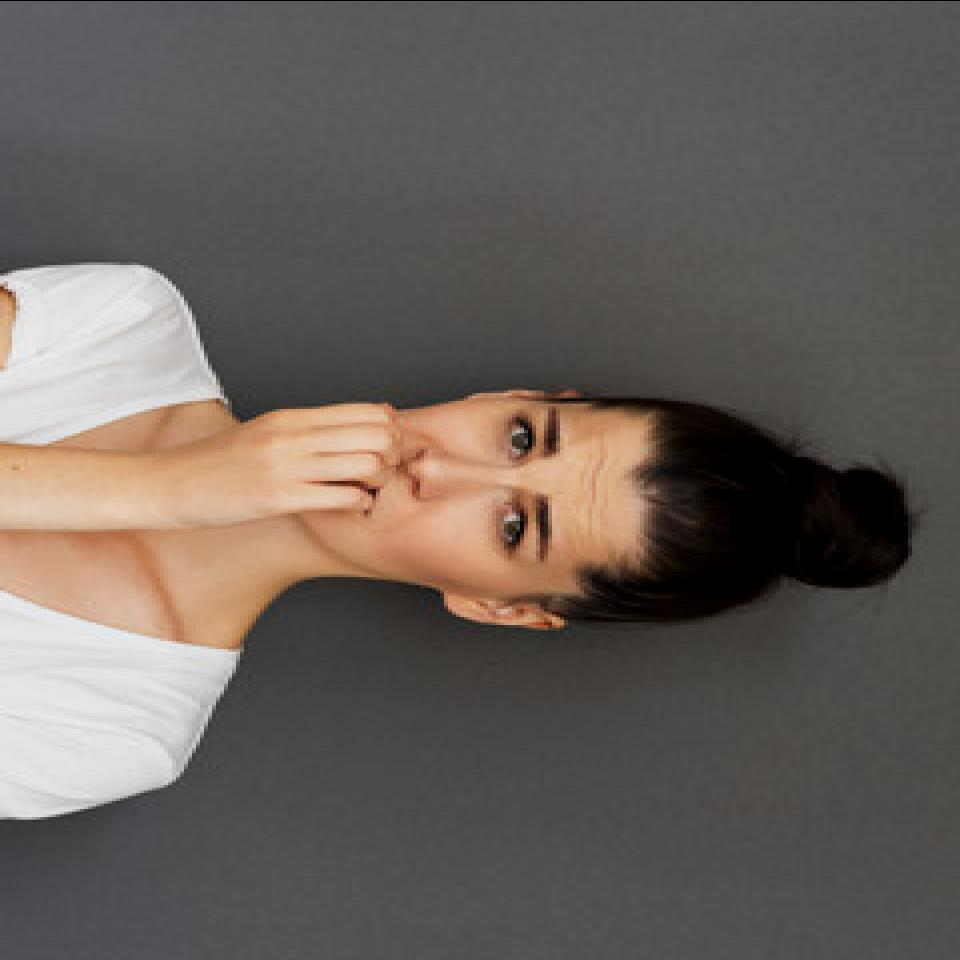Scared: (227, 386, 665, 630)
